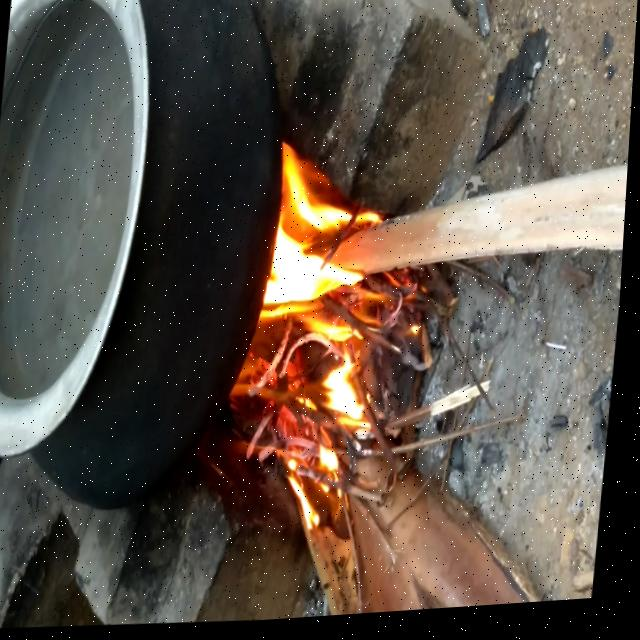Fire: (244, 135, 404, 540)
